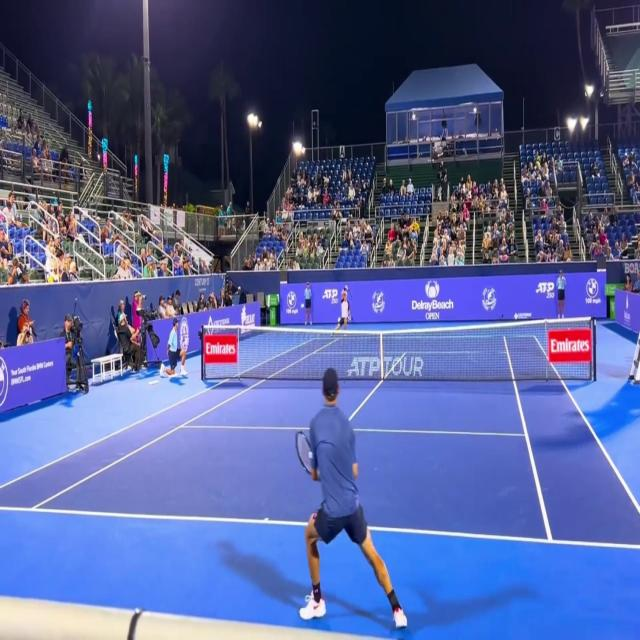tennisBall: (335, 314, 342, 326)
